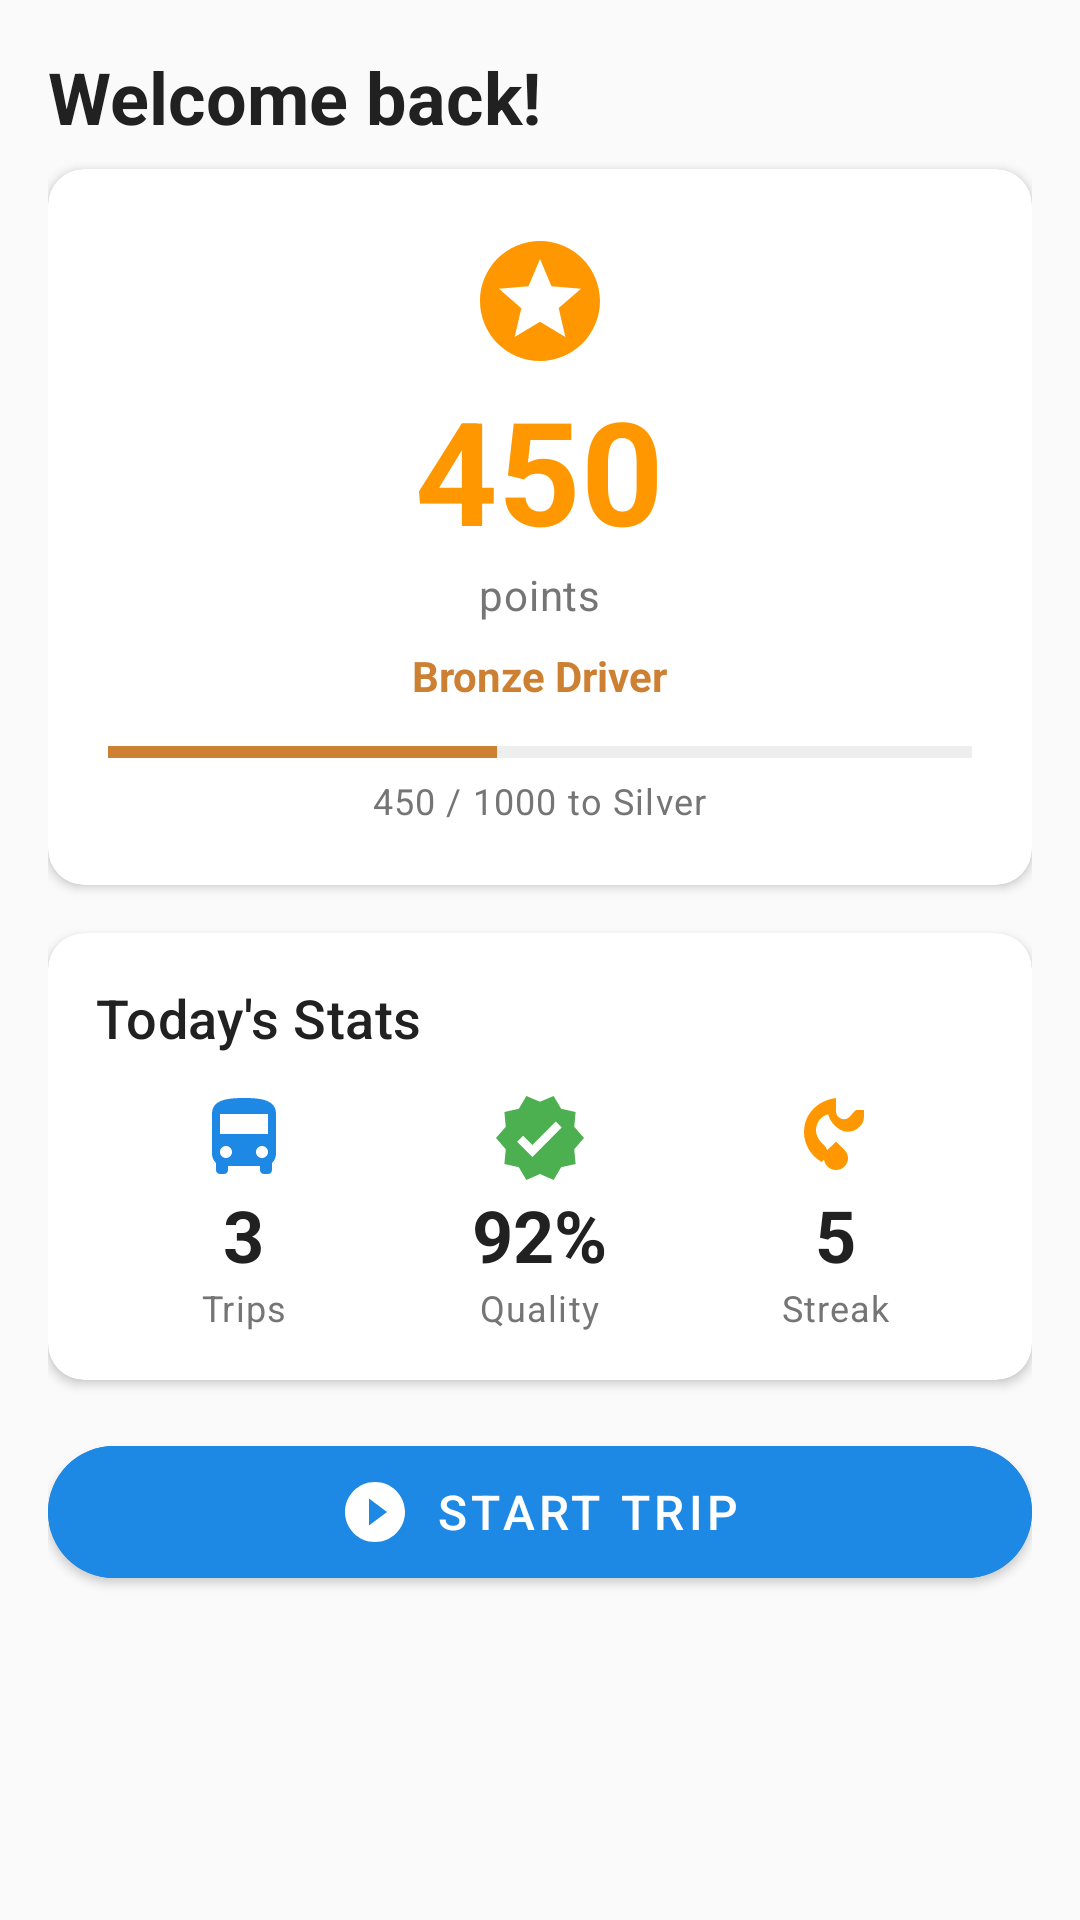

Where to tap for icons on this 1080*1920 app screen, as (x,y):
directions bus: (244,1136)
stars: (540,301)
verified: (540,1138)
